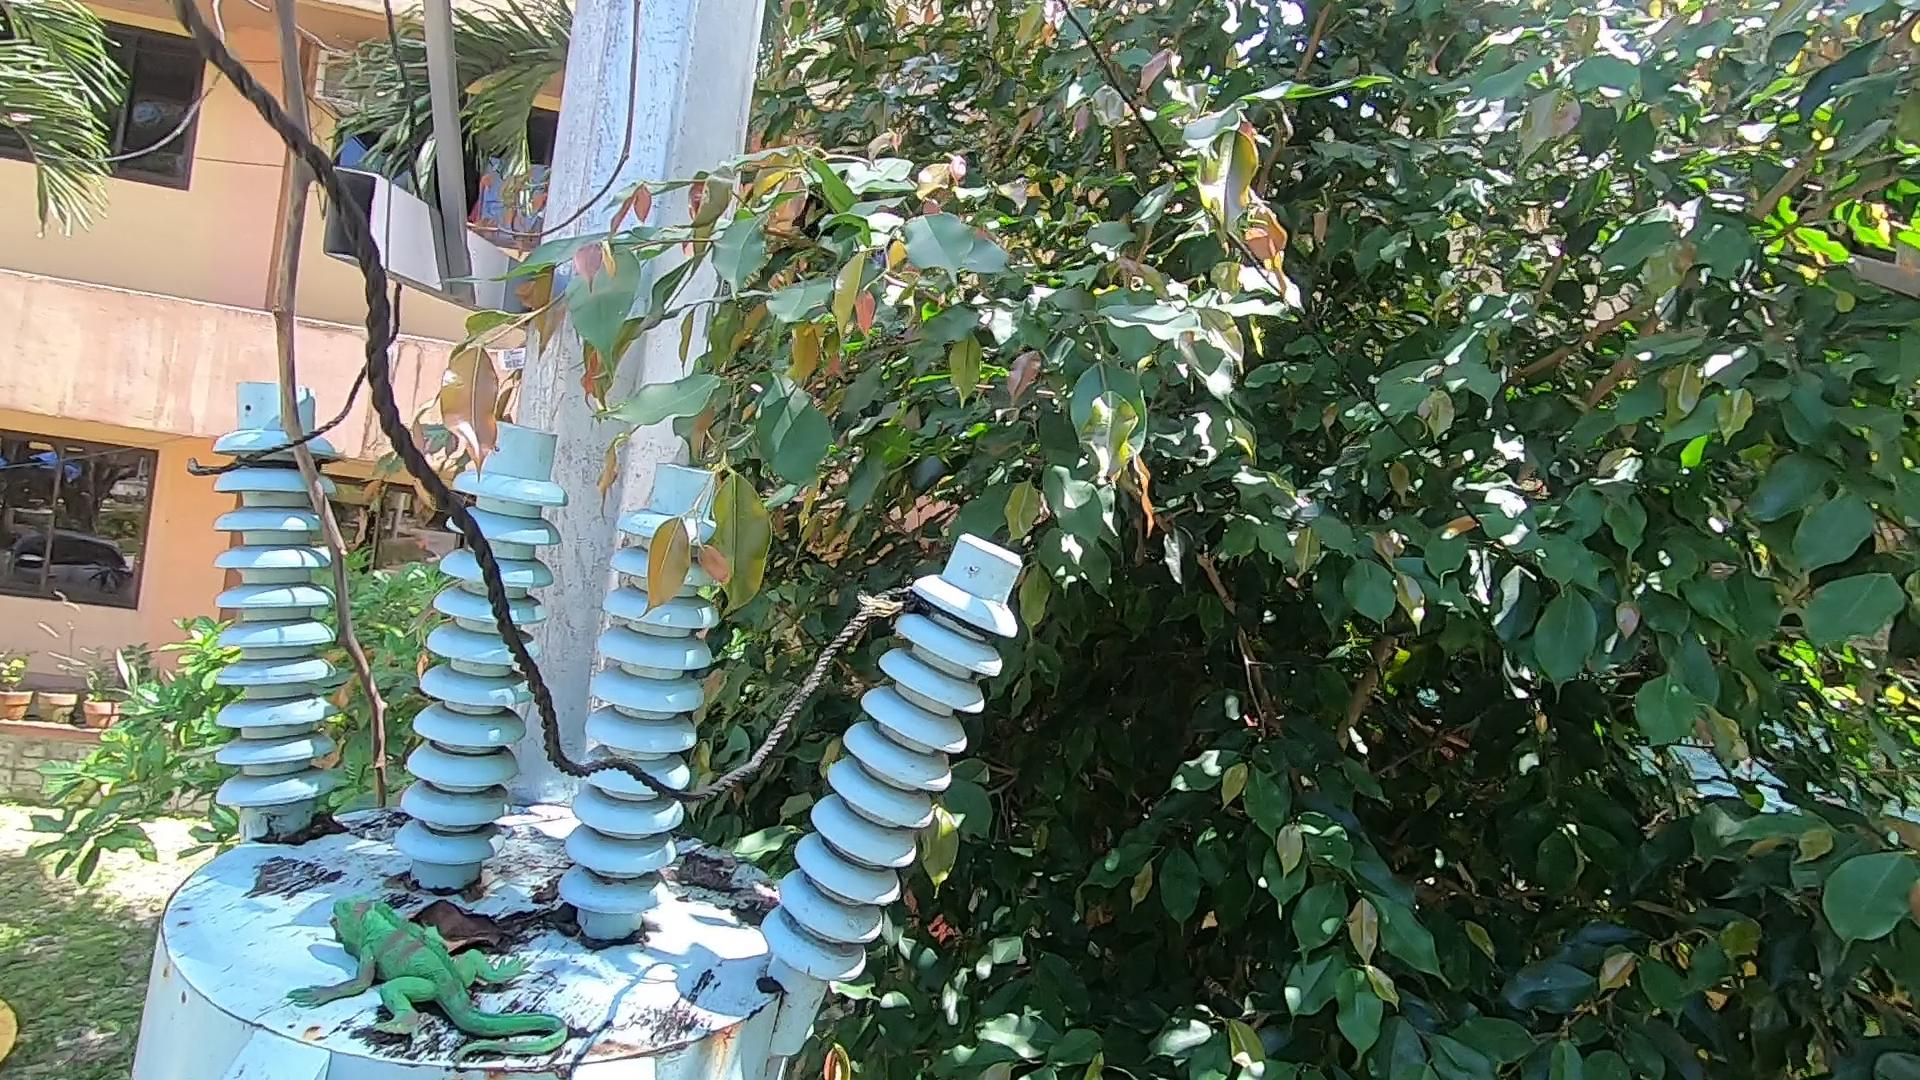branch with leaves: (422, 229, 790, 636)
leaf: (415, 893, 607, 955), (684, 839, 789, 928), (260, 814, 352, 844)
tree branch: (244, 1, 469, 807)
